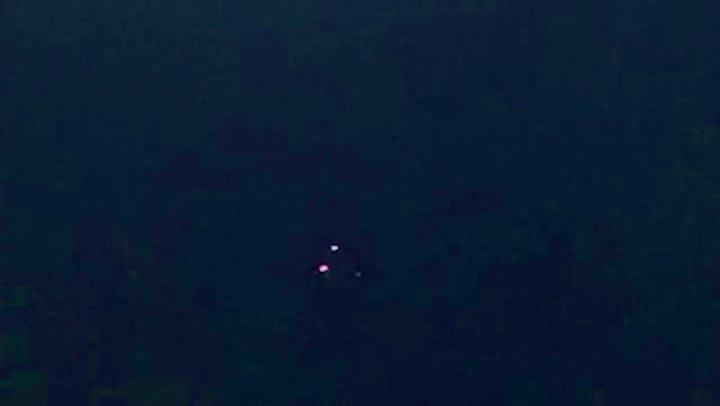Plane: (299, 233, 374, 296)
